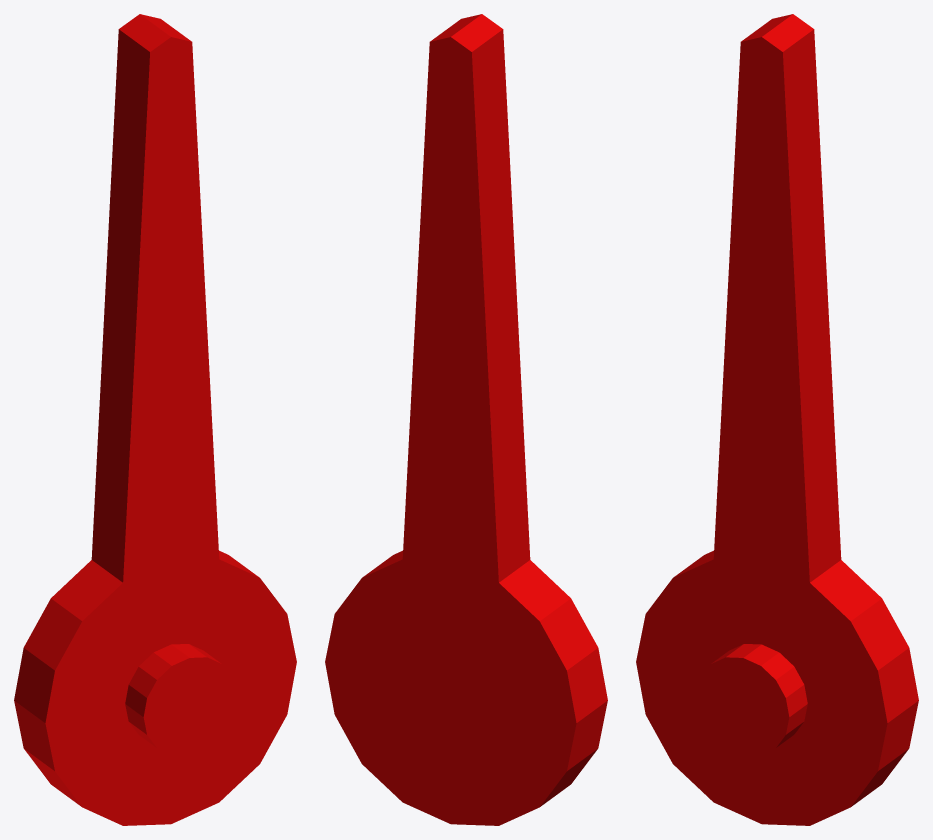
File: DarkGreyMetalMechLargeIndustrialBoiler1Gauge.fbx
3 renders of one model, left to right at view 1: azimuth 30°, elevation 25°; view 2: azimuth 150°, elevation 25°; view 3: azimuth 330°, elevation 25°, orthographic.
Visible parts, largest first — view 1: DarkGreyMetalMechLargeIndustrialBoiler1Gauge; view 2: DarkGreyMetalMechLargeIndustrialBoiler1Gauge; view 3: DarkGreyMetalMechLargeIndustrialBoiler1Gauge.
Part boxes in pixels (<box>): DarkGreyMetalMechLargeIndustrialBoiler1Gauge: <box>14,14,296,825</box>; DarkGreyMetalMechLargeIndustrialBoiler1Gauge: <box>325,14,607,825</box>; DarkGreyMetalMechLargeIndustrialBoiler1Gauge: <box>636,14,918,825</box>.
Size of the model in its own units: 16.63 by 49.73 by 5.71.
